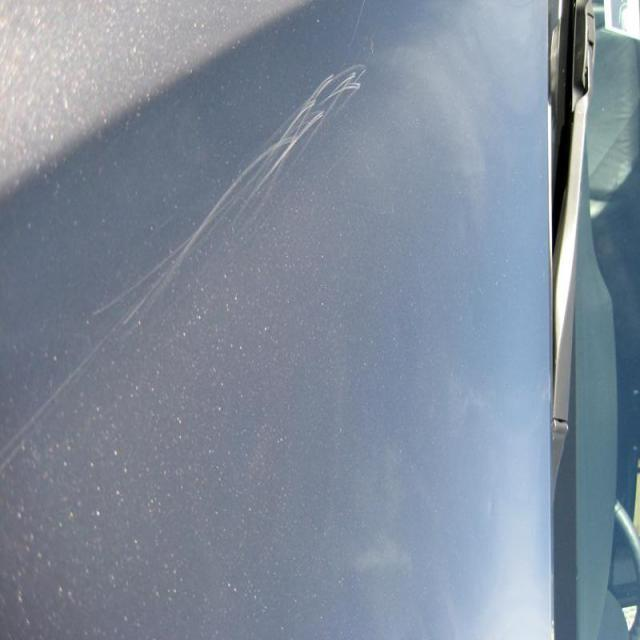scratch: (118, 34, 386, 321)
